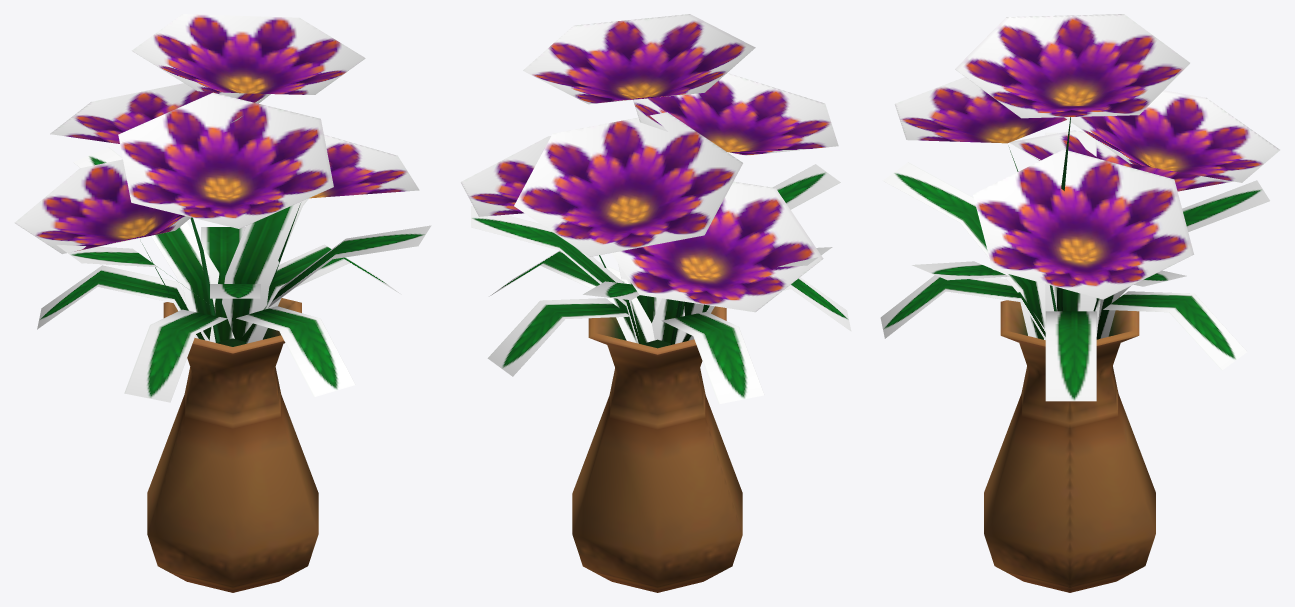
Rendered from FlowerPot_01.gltf.
3 views of the same model, side by side, from view 1: azimuth 30°, elevation 25°; view 2: azimuth 150°, elevation 25°; view 3: azimuth 270°, elevation 25° (orthographic).
Parts seen in each view (by area): view 1: FlowerPot_01; view 2: FlowerPot_01; view 3: FlowerPot_01.
Part boxes in pixels (left/top/right/bottom): FlowerPot_01: left=14, top=14, right=431, bottom=592; FlowerPot_01: left=460, top=14, right=851, bottom=592; FlowerPot_01: left=880, top=14, right=1279, bottom=592.
Size of the model in its own units: 33.74 by 47.74 by 33.25.
Materials: 1 (1 with a texture image).
